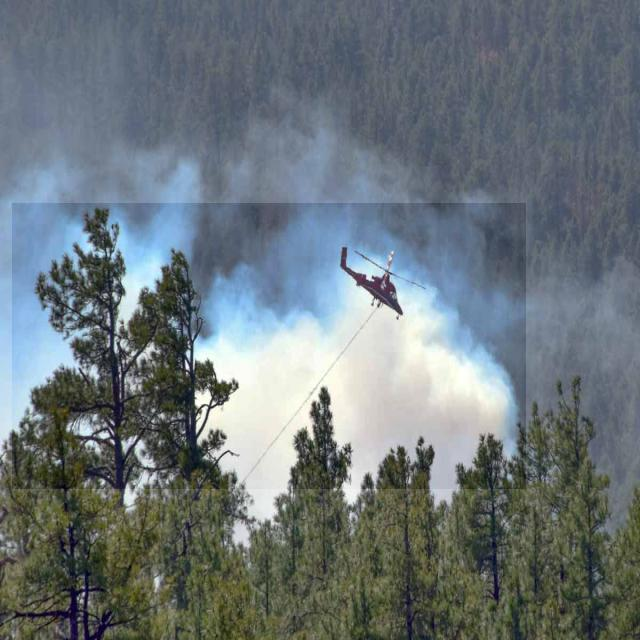Smoke: (12, 203, 526, 489)
